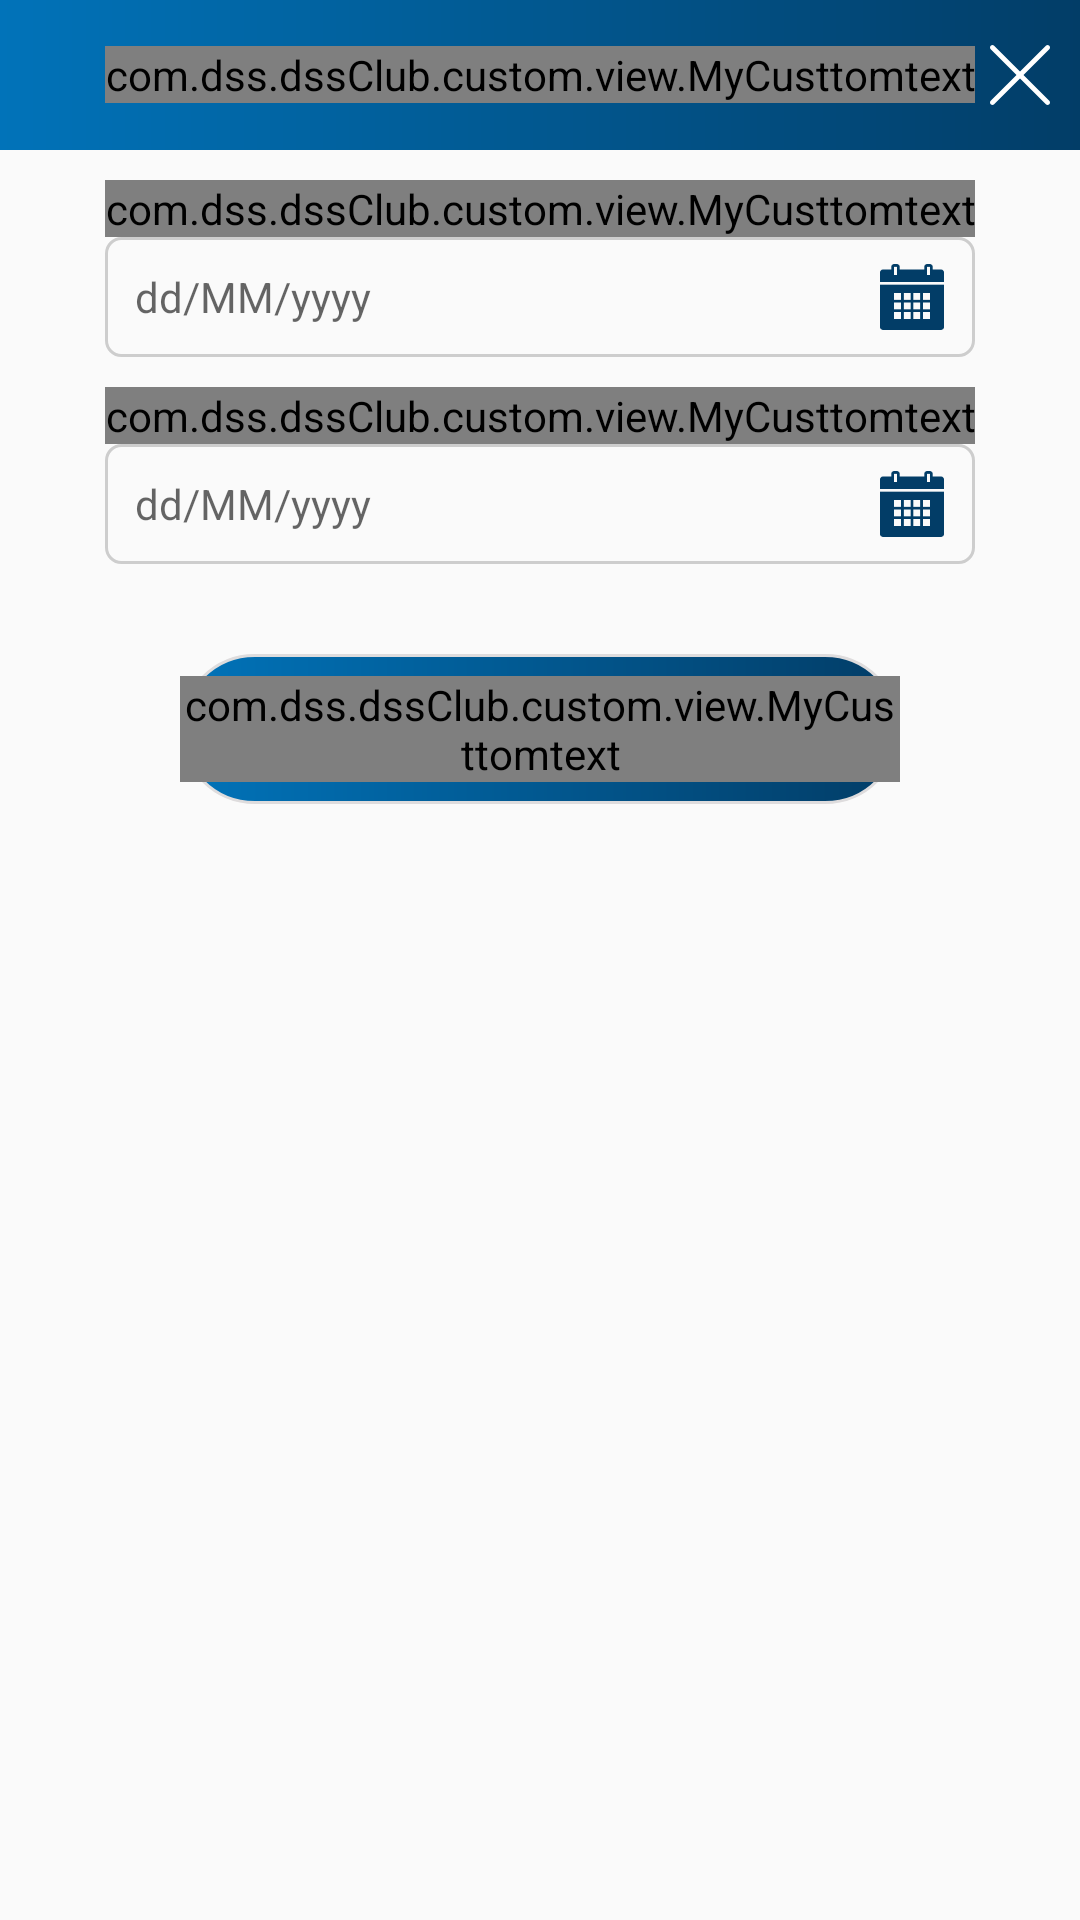

Where icons sit on this 1080 x 1920 app screen, as (x1, y1, x2, y2):
calender: (880, 264, 944, 330), (880, 471, 944, 537)
close: (990, 45, 1050, 105)
